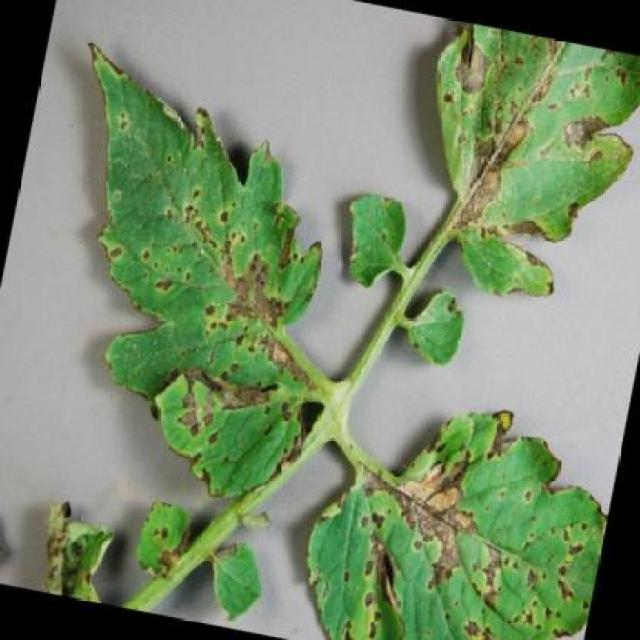Septoria leaf spot: (27, 53, 352, 438), (377, 18, 640, 382), (286, 375, 626, 640), (130, 341, 323, 515), (317, 170, 428, 295)
